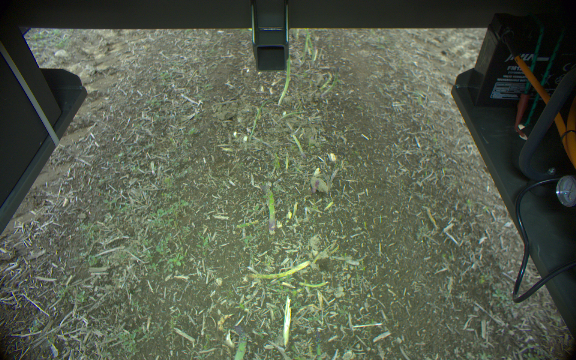aspa: (255, 182, 277, 238), (225, 321, 249, 360), (279, 294, 294, 352), (276, 56, 292, 106), (312, 328, 326, 360)
